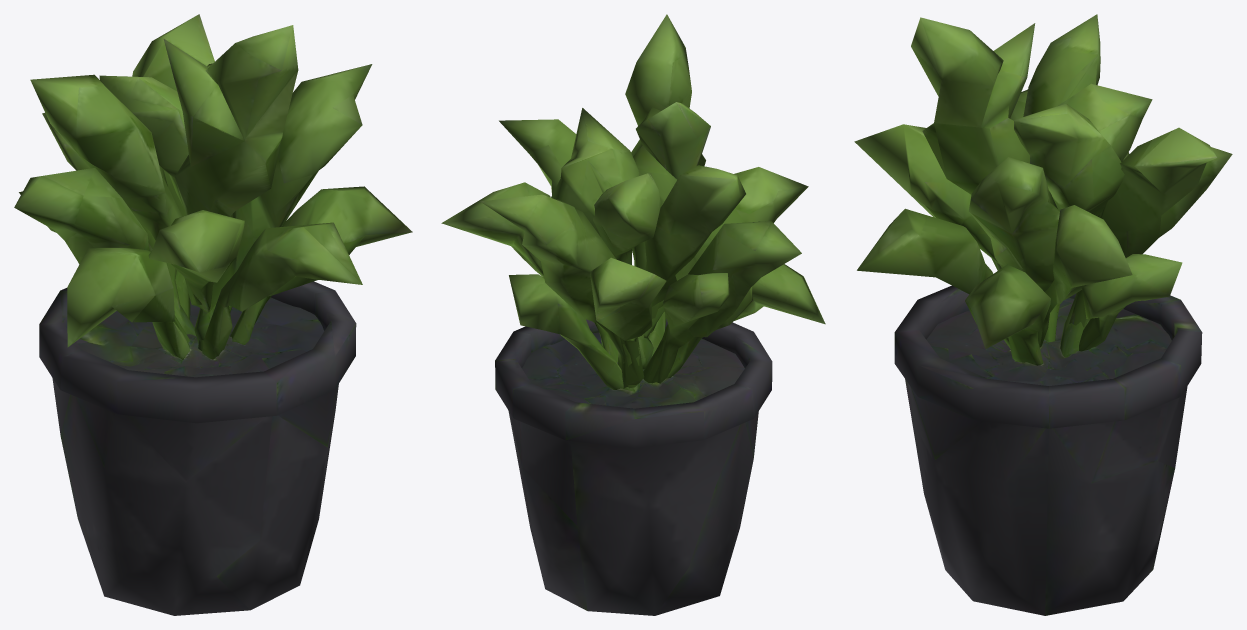
The model's file is plant-pot.glb.
The picture shows the model from 3 angles, left to right: view 1: azimuth 30°, elevation 25°; view 2: azimuth 150°, elevation 25°; view 3: azimuth 270°, elevation 25°; orthographic projection. The views are drawn at different scales.
Size of the model in its own units: 0.626 by 0.9517 by 0.5747.
1 material, 1 textured.
